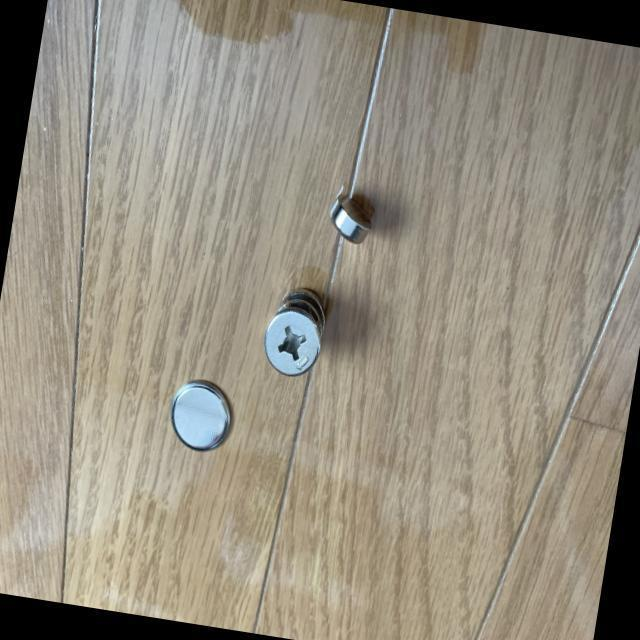COIN: (164, 374, 236, 455), (324, 193, 375, 247)
